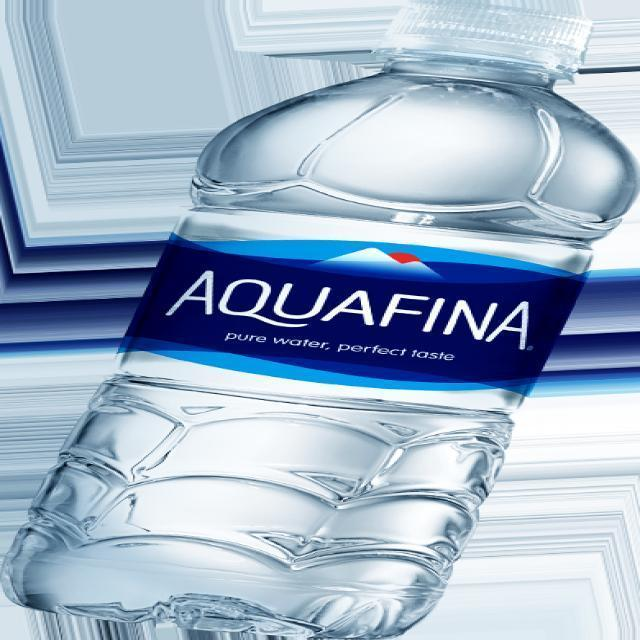plastic_bottle: (2, 0, 638, 640)
